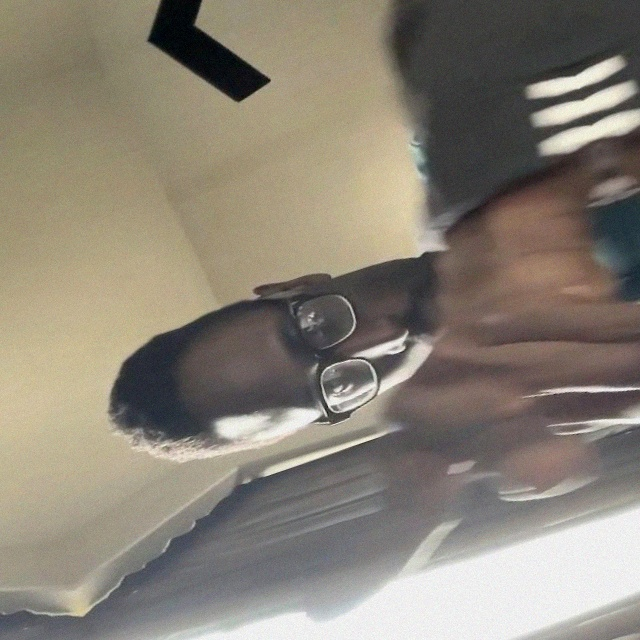Scissors: (231, 253, 640, 626)
